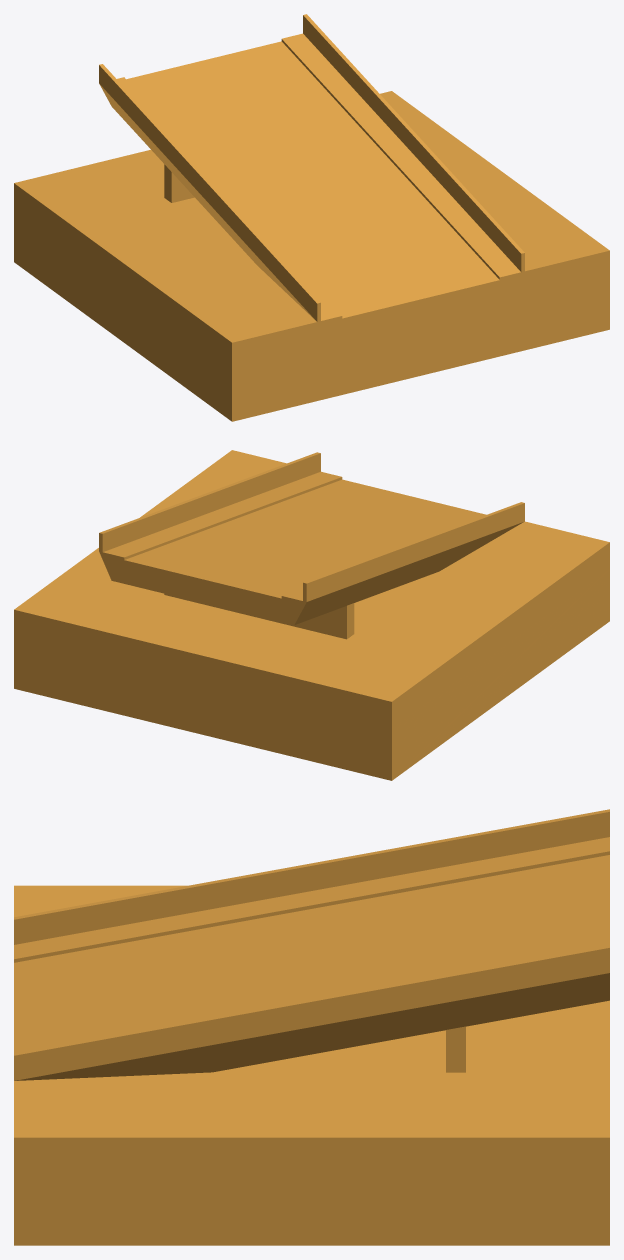
The model's file is tile-bridge-mainroad-hill.fbx.
3 renders of one model, top to bottom at view 1: azimuth 30°, elevation 25°; view 2: azimuth 150°, elevation 25°; view 3: azimuth 270°, elevation 25°, orthographic. The views are drawn at different scales.
Parts seen in each view (by area): view 1: tile-bridge-mainroad-hill; view 2: tile-bridge-mainroad-hill; view 3: tile-bridge-mainroad-hill.
Boxes of the visible parts, x1,y1,x2,y2 form: tile-bridge-mainroad-hill: (14, 14, 609, 421); tile-bridge-mainroad-hill: (14, 450, 609, 780); tile-bridge-mainroad-hill: (14, 809, 609, 1245).
Bounding box in the file's own units: 30 × 13.4 × 30.
